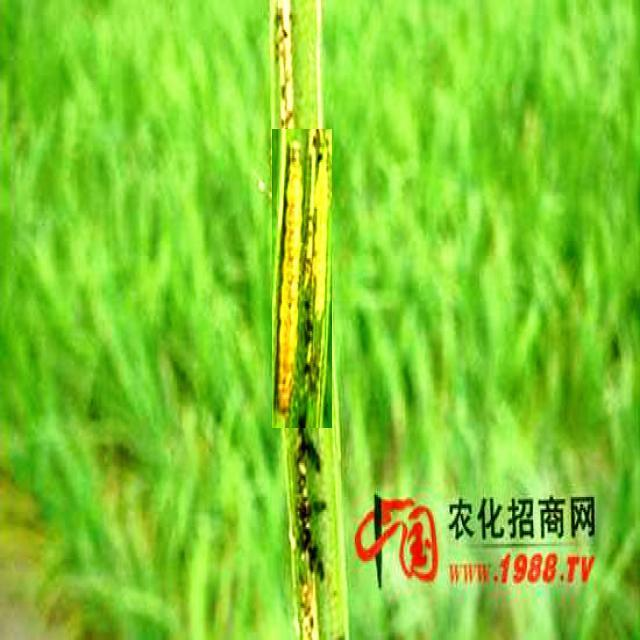leaf-folder: (272, 129, 332, 428)
